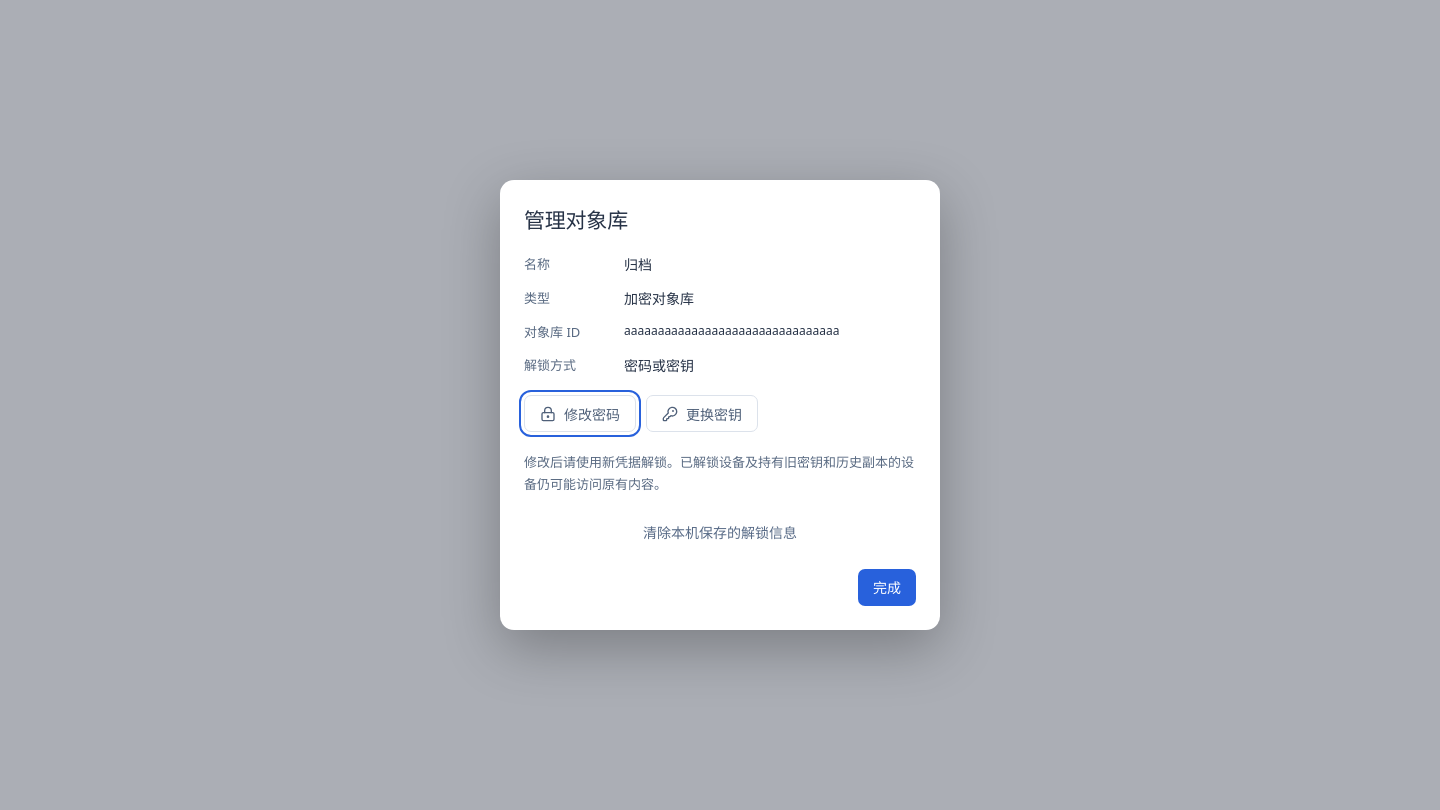
it: locks management actions during delayed saved-credential removal and restores them after failure
Later steps or results of the test are not shown.
What coordinates should you click on to do the following:
click the button "清除本机保存的解锁信息"
I would click on:
 (720, 532)
Its box is x1=524 y1=515 x2=916 y2=549.
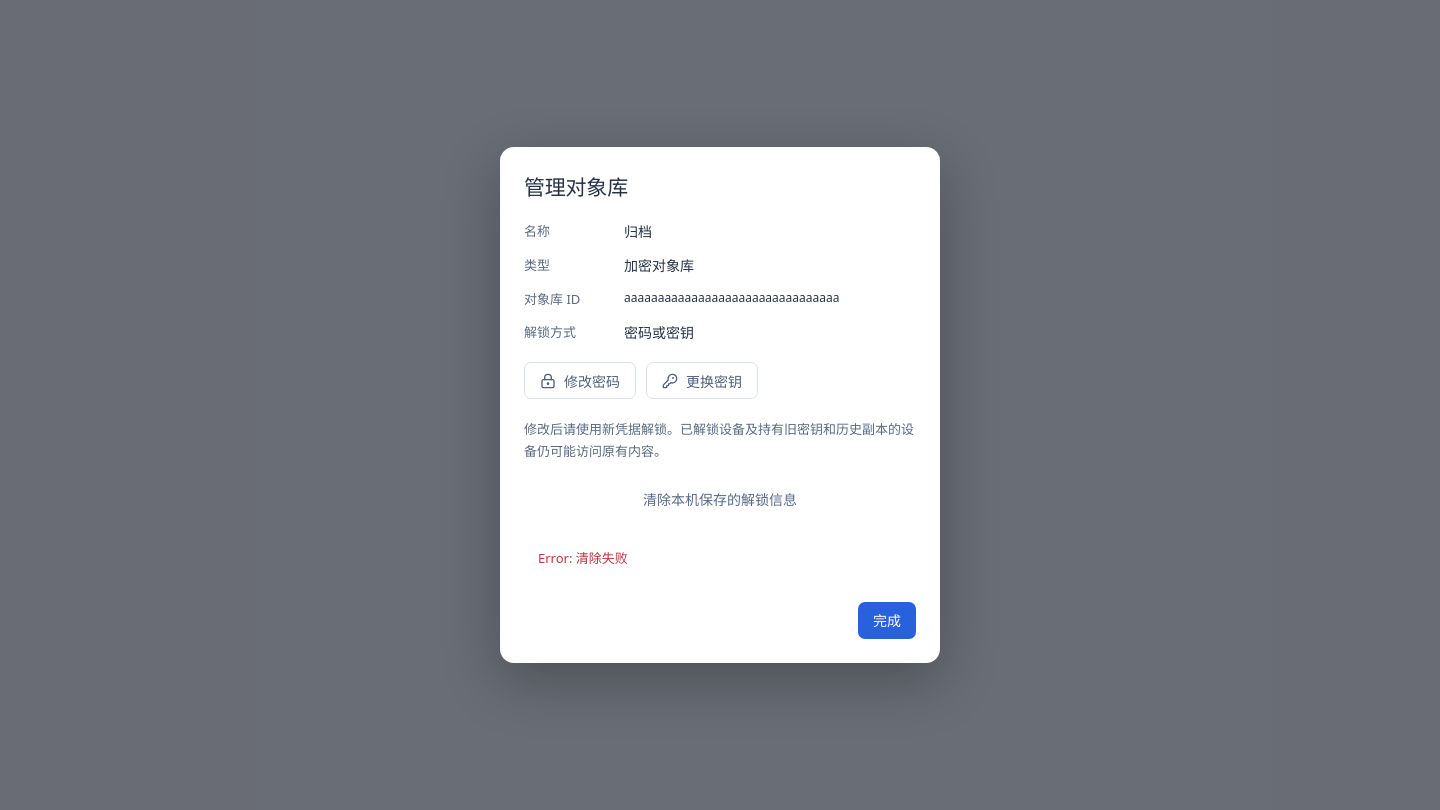
Expected: the button "修改密码" is enabled, x1=524 y1=362 x2=636 y2=399
Result: the message shows "清除失败" at x1=538 y1=549 x2=628 y2=567
